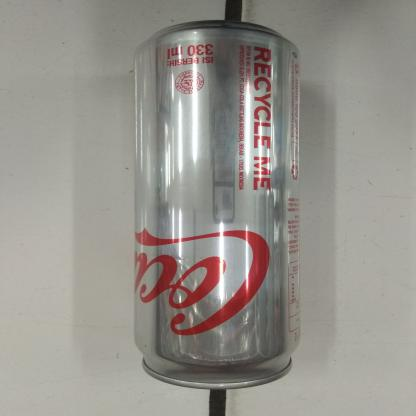bottle: (128, 18, 305, 395)
